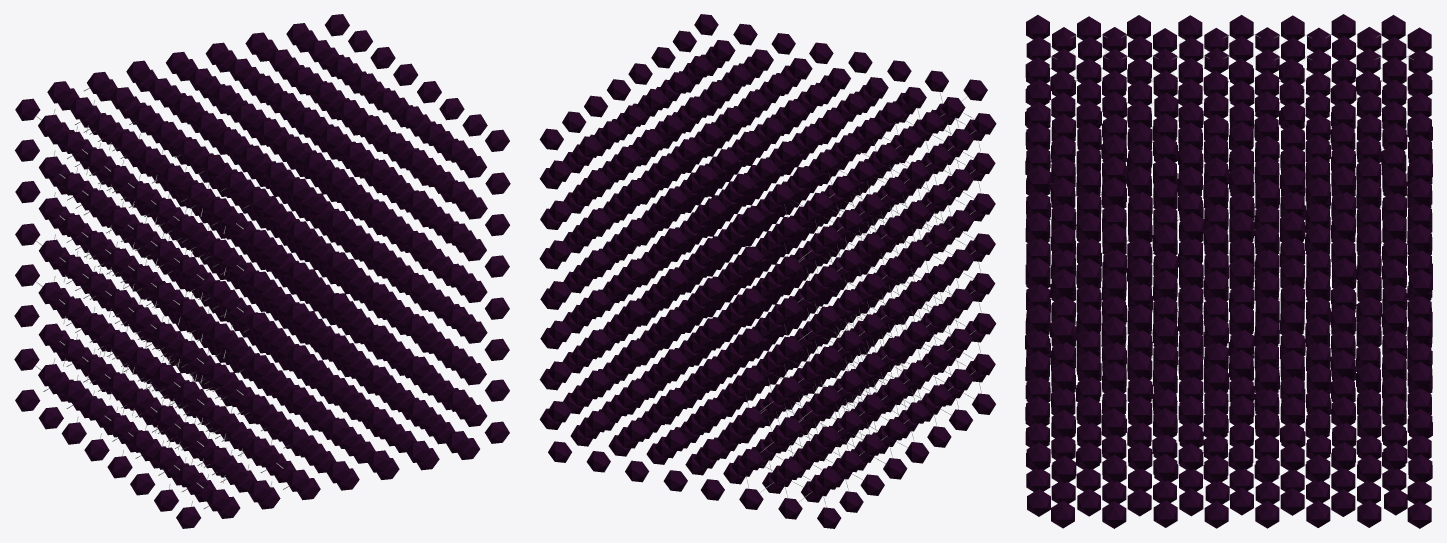
File: research_fe.glb
3 views of the same model, side by side, from view 1: azimuth 30°, elevation 25°; view 2: azimuth 150°, elevation 25°; view 3: azimuth 270°, elevation 25° (orthographic). The views are drawn at different scales.
Bounding box in the file's own units: 22.99 × 22.97 × 22.97.
